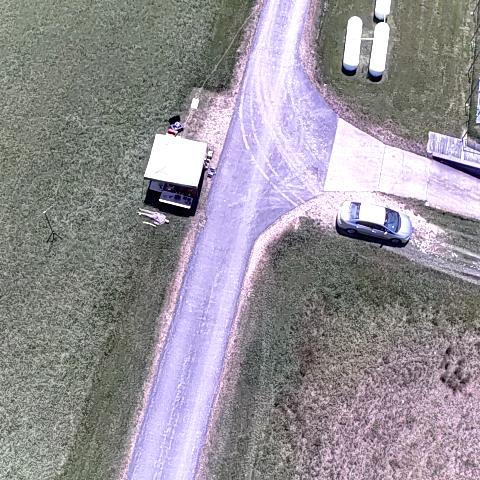person: (136, 206, 169, 225)
